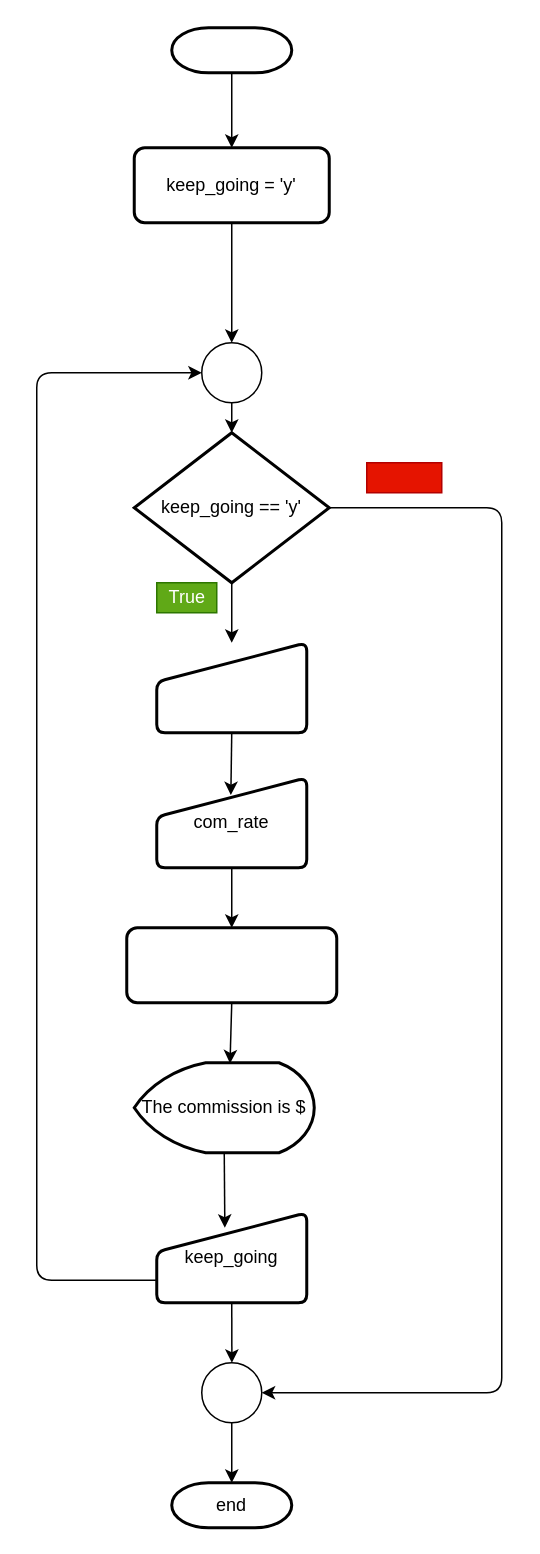
Image size: 540x1554. Some labels were removed from this diagram. The shapes that lost their labels are listed below. From the top down, each one's centre as x and y in pixels, then its label:
At point 231,50: "start".
At point 403,477: "False".
At point 231,687: "sales".
At point 231,965: "commission = sales * com_rate".
